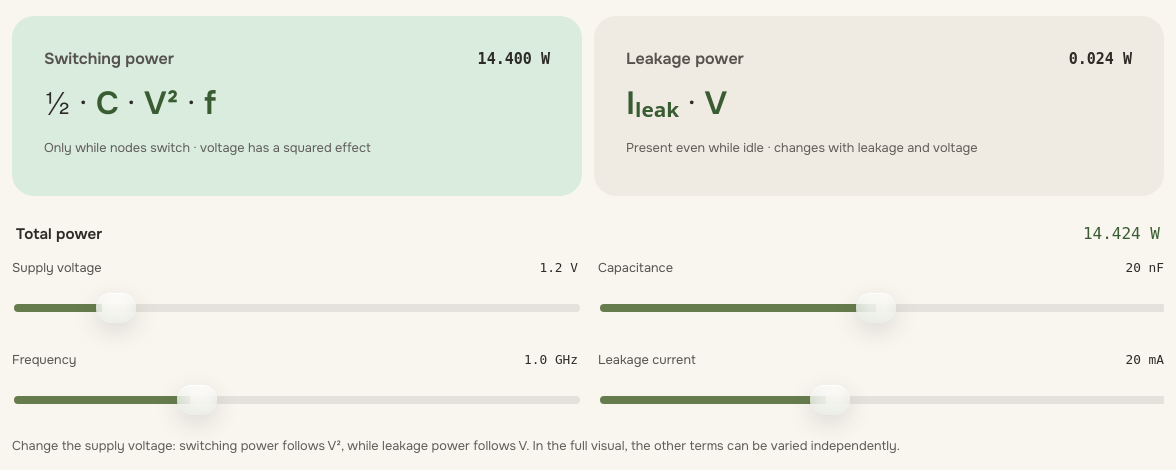
SystemsDiagram › recomputes CMOS power when voltage changes
The width and height of the screenshot is (1176, 470).
Expected: the text "14.400 W" is shown, [478,50,550,68]
Expected: the text "0.024 W" is shown, [1069,50,1132,68]
Set the slider named "Supply voltage" to "2.4" at [254, 308], box [14,286,580,330]
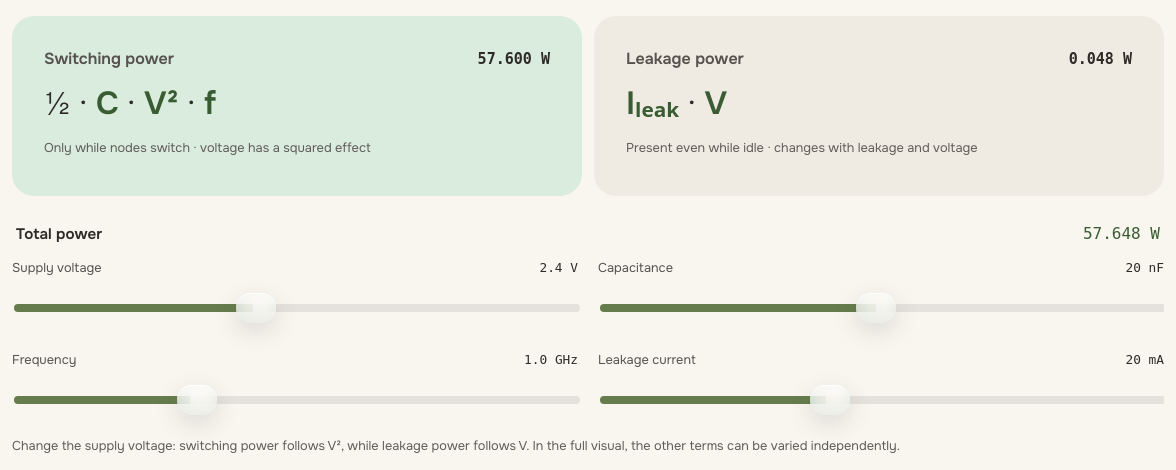
Now the text "57.600 W" is shown, box [478,50,550,68]
Now the text "0.048 W" is shown, box [1069,50,1132,68]
